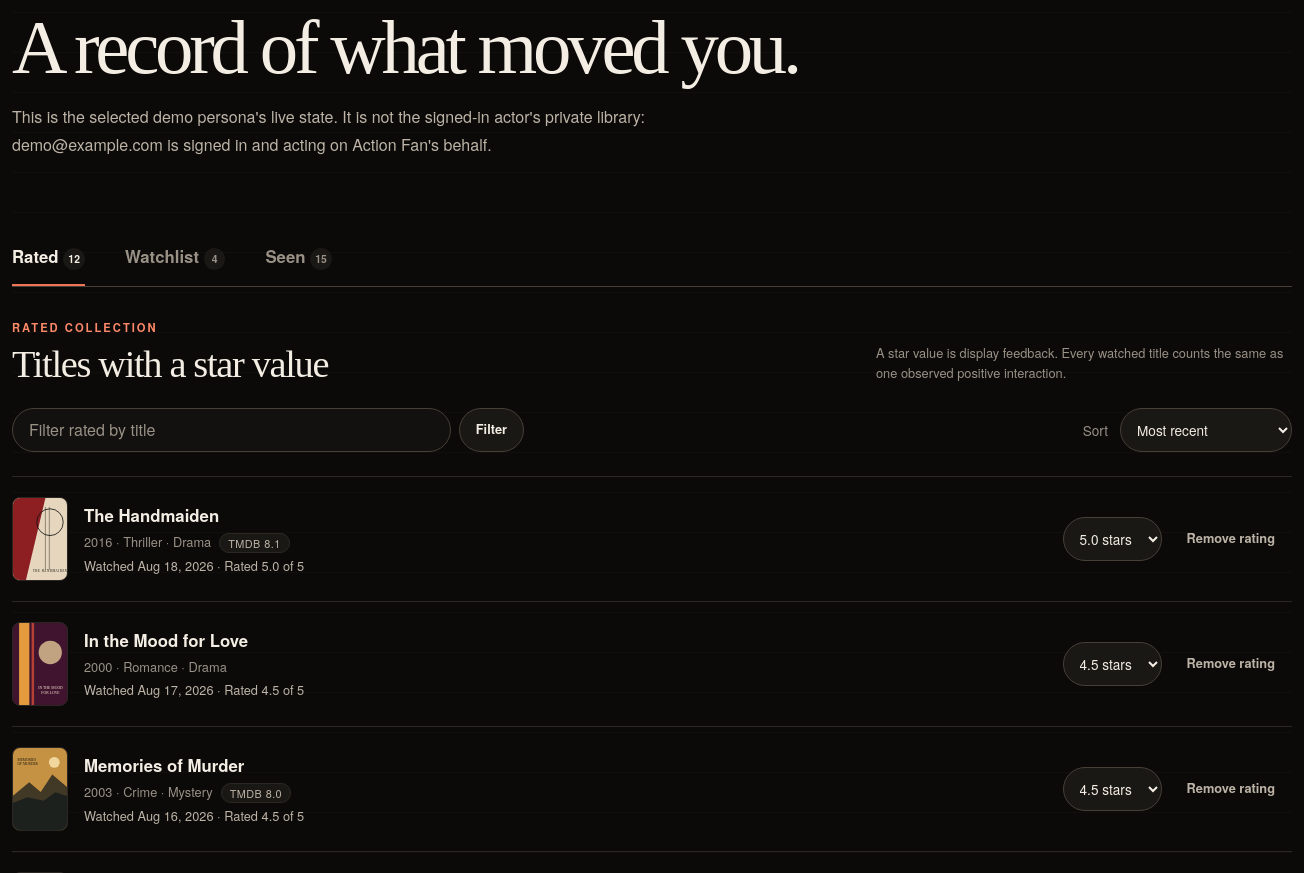
Test case: collections load independently and own their URL state › ranks the rated collection by release year and by crowd score
The width and height of the screenshot is (1304, 873).
Select "Newest release" in the dropdown labelled "Sort" at [1206, 430], box left=1120, top=408, right=1292, bottom=452
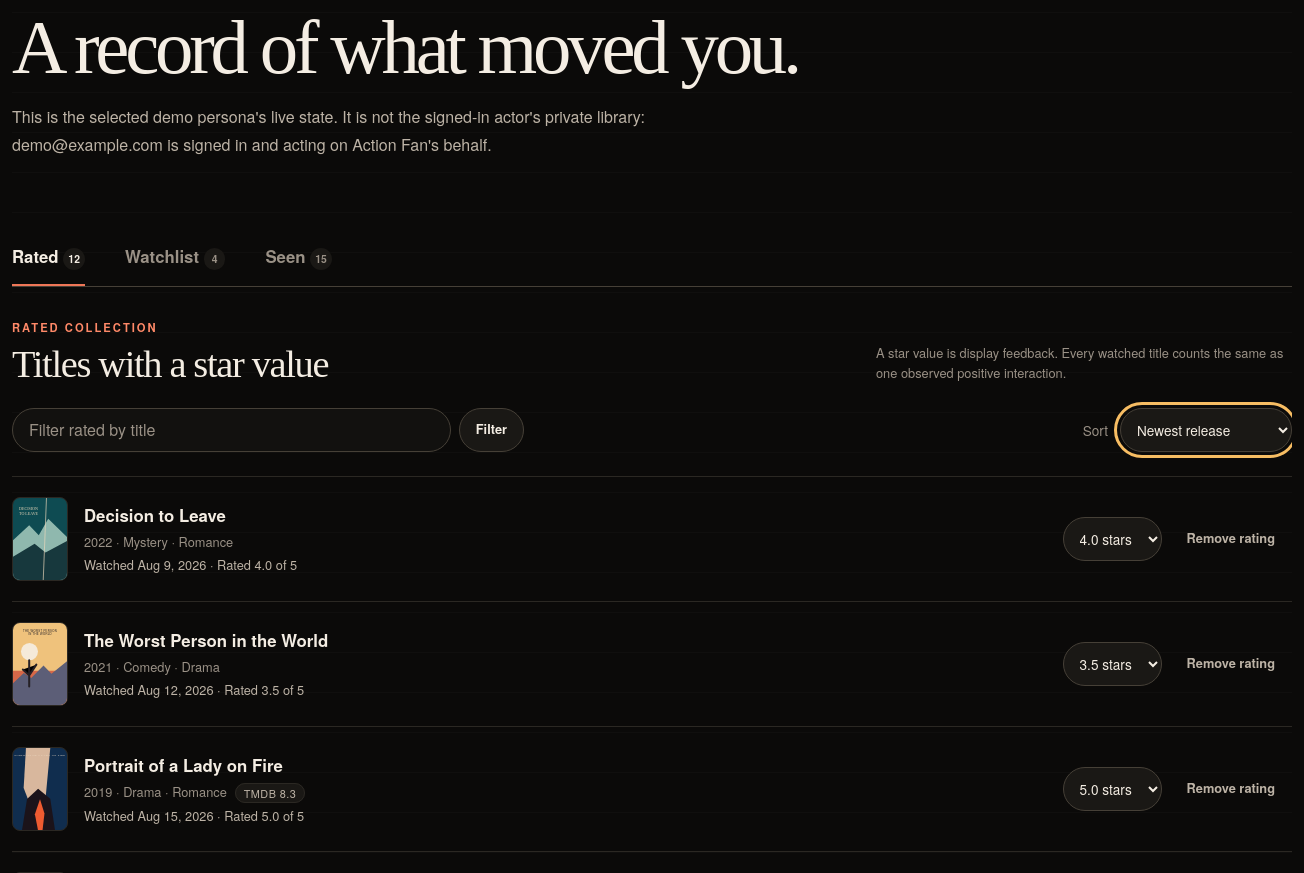
Expected: the list item that starts with "Decision to Leave" is shown, left=84, top=503, right=226, bottom=527
Select "Highest TMDB score" in the dropdown labelled "Sort" at [1206, 430], box left=1120, top=408, right=1292, bottom=452
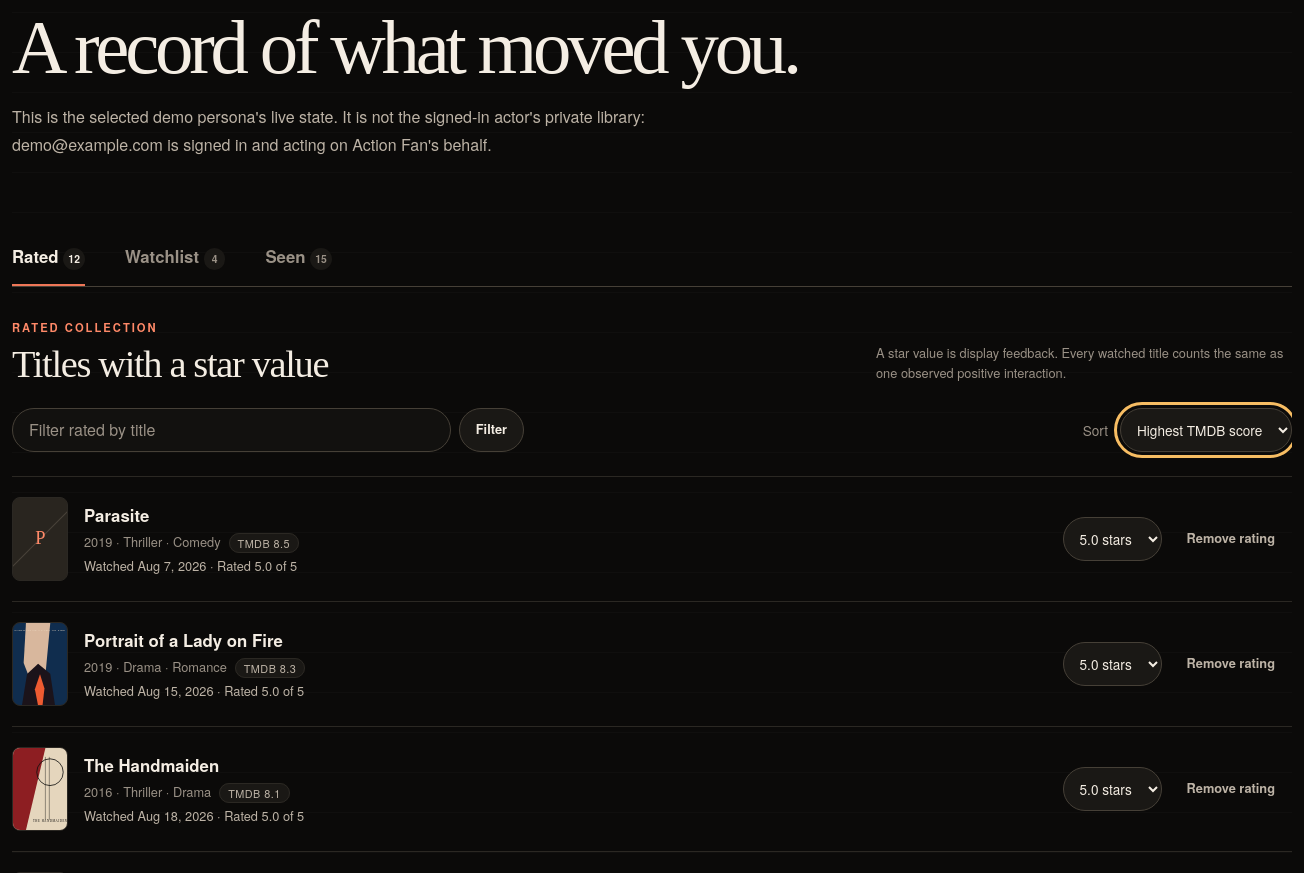
Expected: the list item that starts with "Parasite" is shown, left=84, top=503, right=149, bottom=527
Expected: the list item that starts with "Parasite" shows "TMDB 8.5", left=238, top=535, right=290, bottom=550
